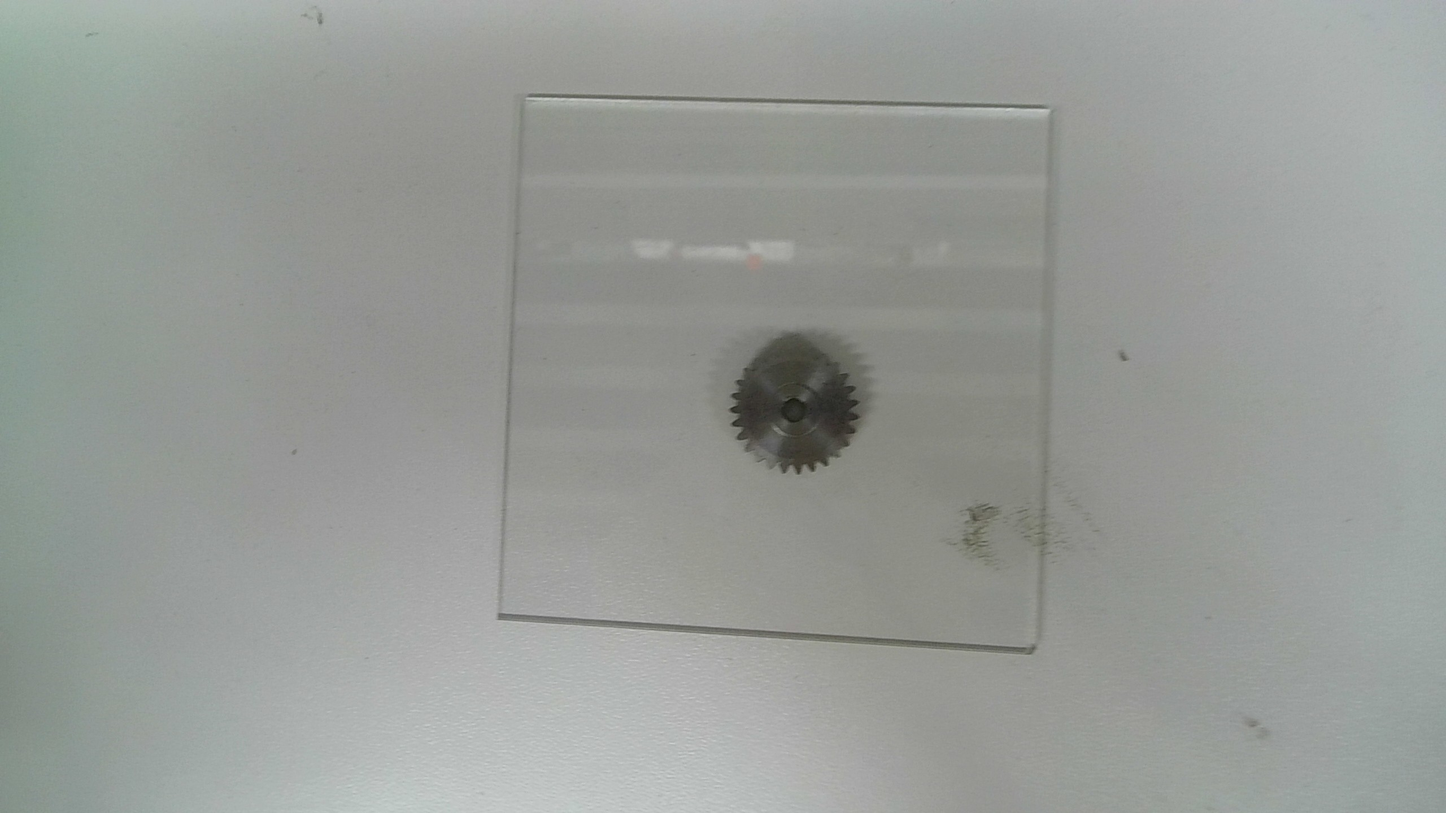gear: (730, 343, 863, 479)
